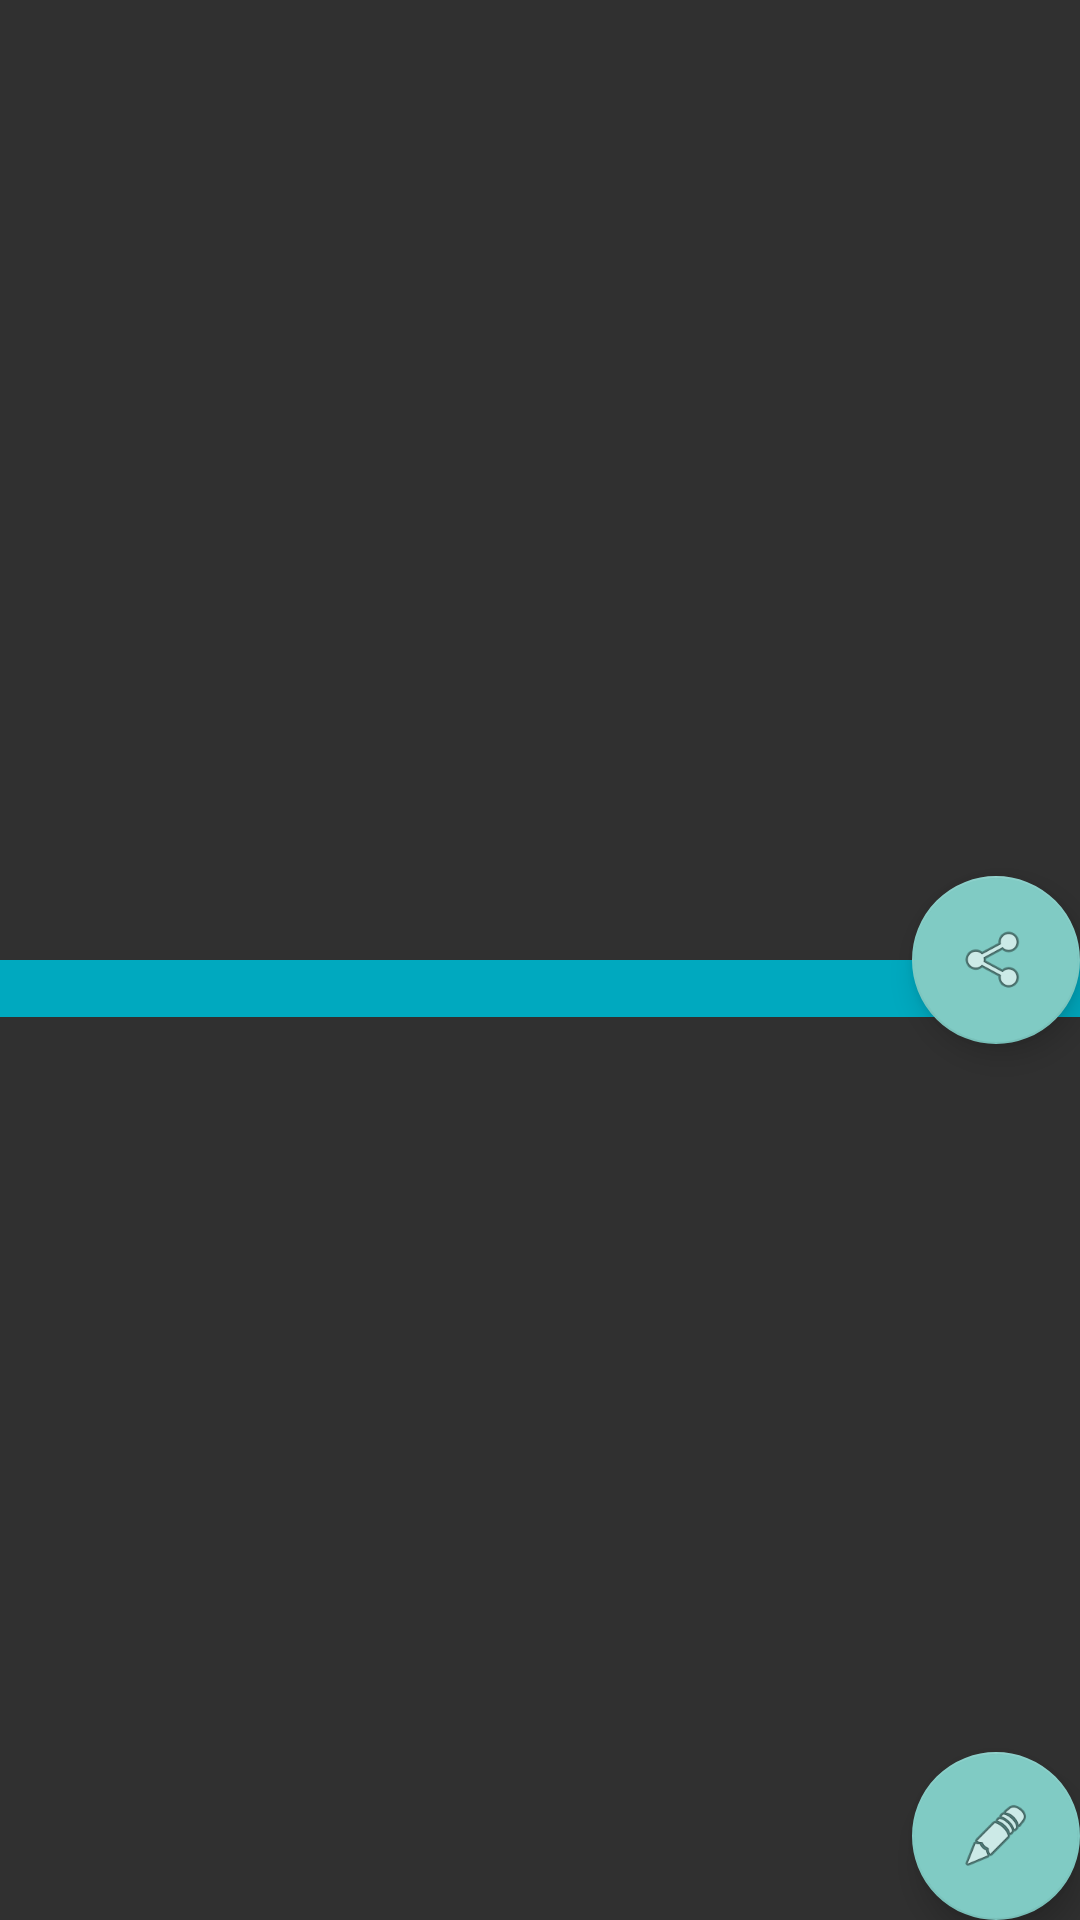

Icons on this 1080px x 1920px Android screen, each with its box as [x1, y1, x2, y2]:
edit: [912, 1752, 1080, 1920]
share: [912, 876, 1080, 1044]
